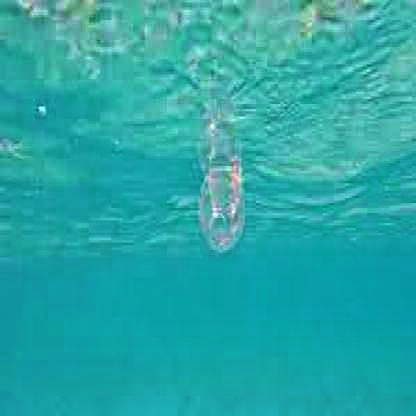pbottle: (193, 144, 252, 260)
